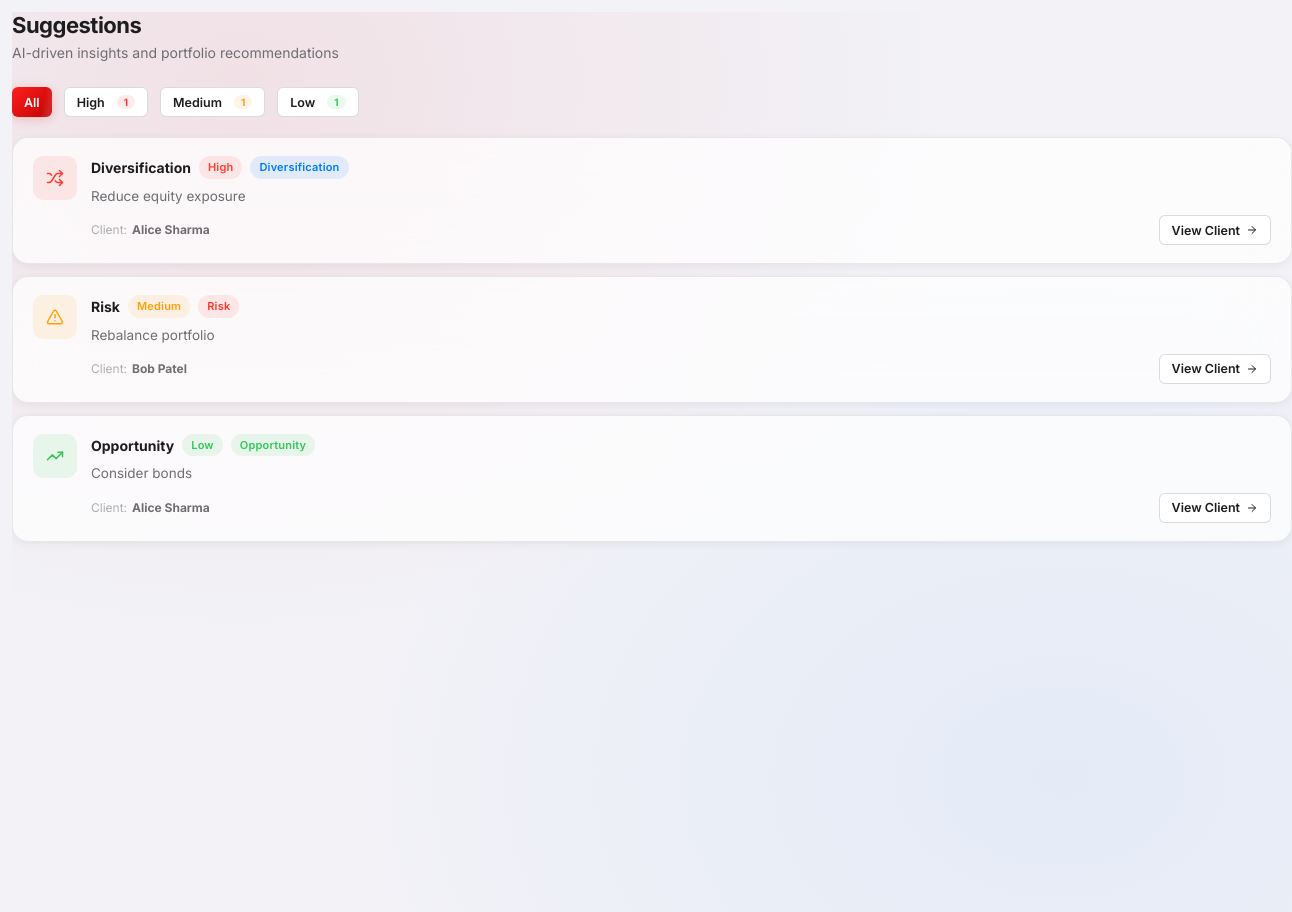
Test: SuggestionsPage — filter › filters by High severity
This screenshot has width=1292, height=912.
Click the button "High 1" at (106,102), box [64,87,148,117]
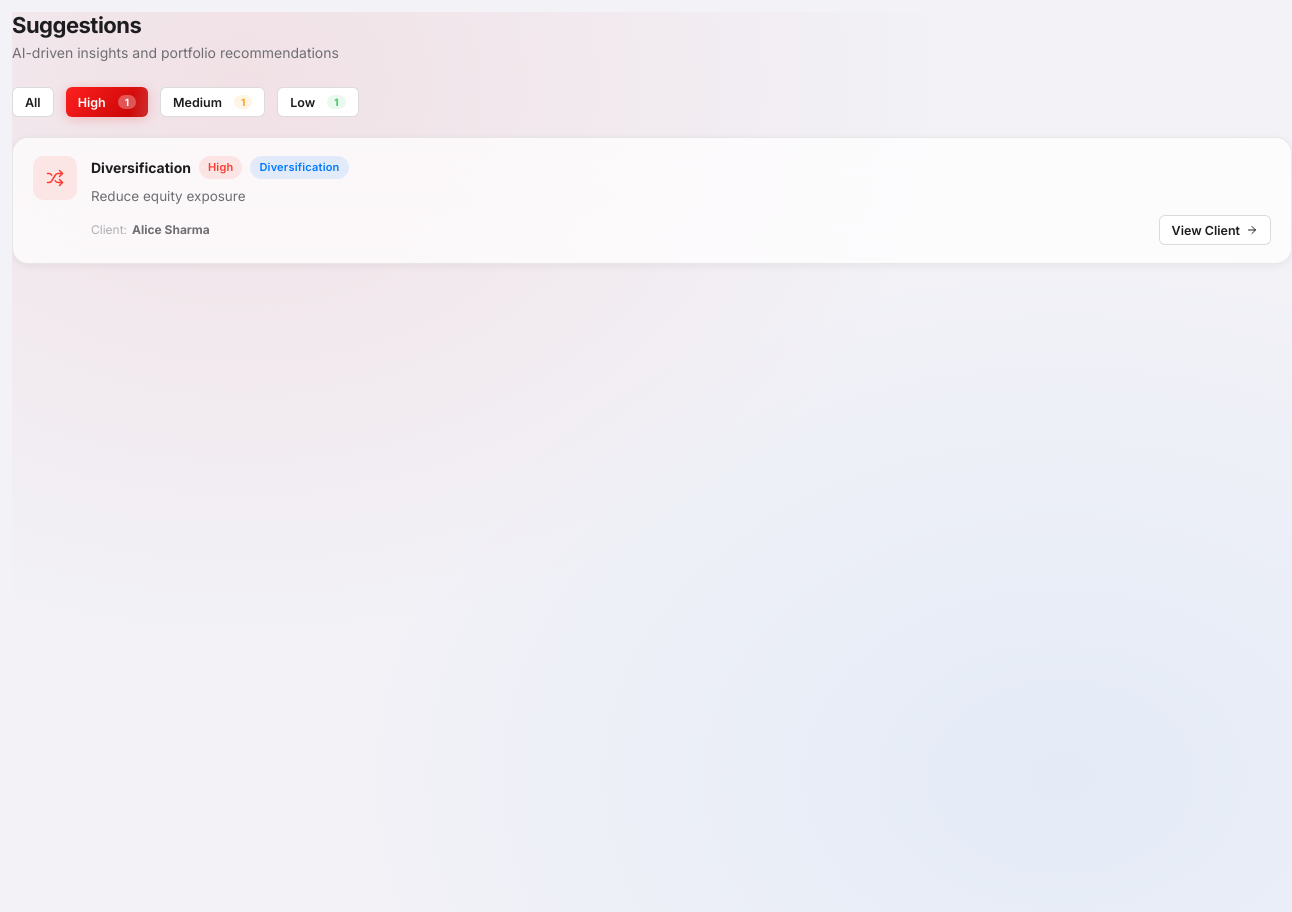
Expected: the text "Reduce equity exposure" is shown, [91,188,246,204]
Now the text "Rebalance portfolio" is gone
Now the text "Consider bonds" is gone
